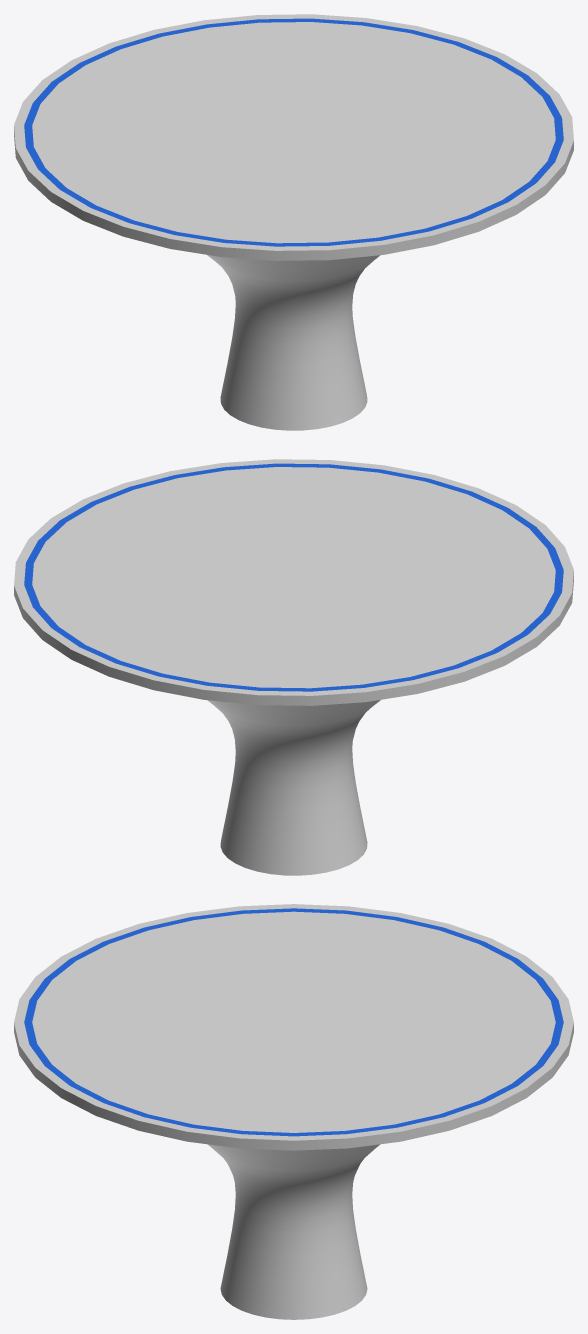
Rendered from TABLE_SCIFI.fbx.
The picture shows the model from 3 angles, top to bottom: view 1: azimuth 30°, elevation 25°; view 2: azimuth 150°, elevation 25°; view 3: azimuth 270°, elevation 25°; orthographic projection.
Visible parts, largest first — view 1: Circle; view 2: Circle; view 3: Circle.
Boxes of the visible parts, x1,y1,x2,y2 form: Circle: [14, 14, 573, 430]; Circle: [14, 459, 573, 875]; Circle: [14, 904, 573, 1319].
Size of the model in its own units: 136 by 71.38 by 136.
